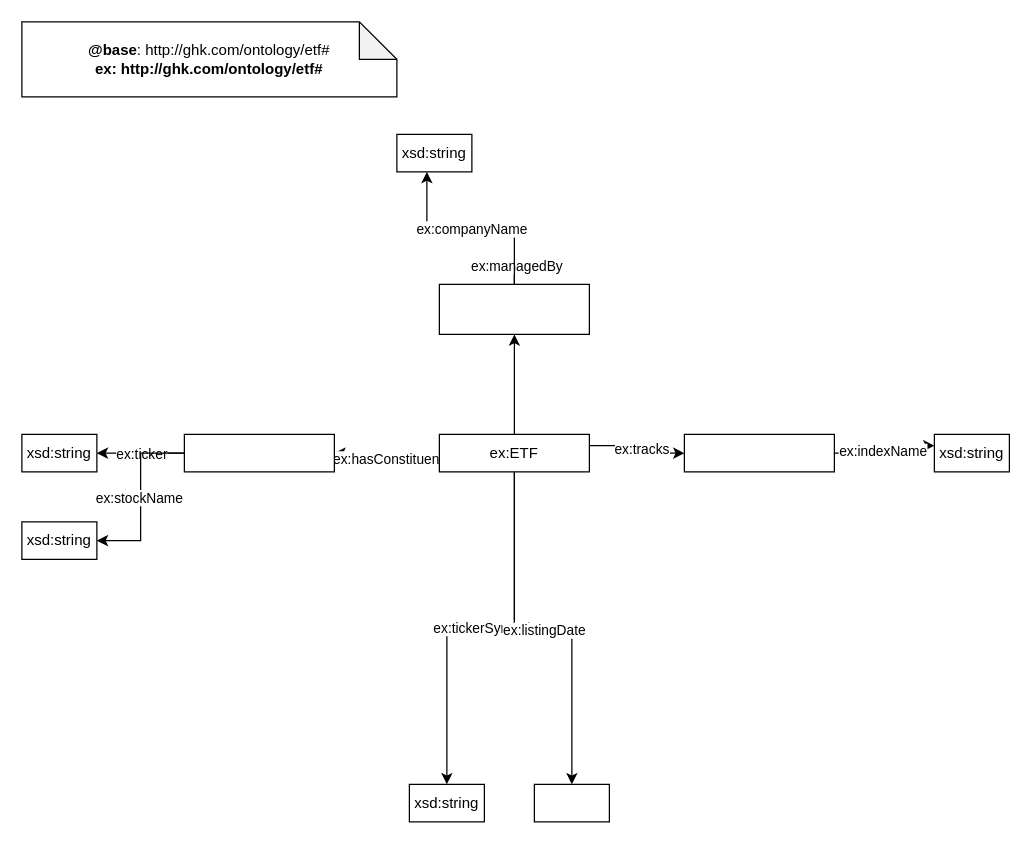
Some shapes in this 1031 by 844 pixel diagram are drawn without their labels. Here are the shapes that lost their labels. From the top down, the centre of each, then its label:
point (513, 308): ex:AssetManager
point (258, 452): ex:Stock
point (758, 452): ex:Index
point (571, 802): xsd:date
